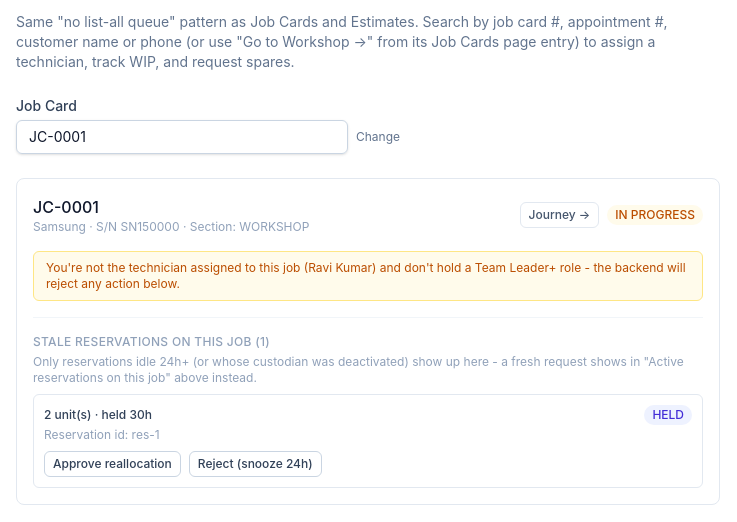
Test: WorkshopPage - capability gating (2026-09-14: converted from hardcoded role arrays) › tells a reviewer who also holds INVENTORY_STAFF to confirm the return themselves on the Inventory tab
The width and height of the screenshot is (737, 522).
Click the button "Approve reallocation". click: (112, 464)
box: [44,451,181,477]
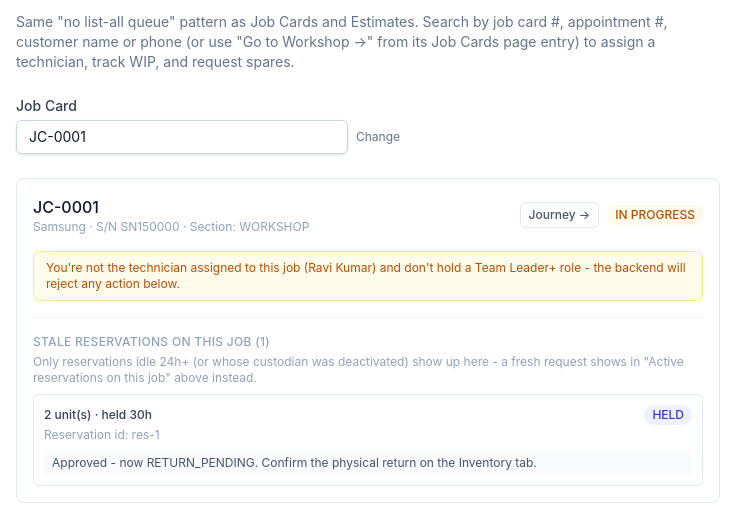
Expected: the text "Confirm the physical return on the Inventory tab" is shown, [262,455,537,470]
